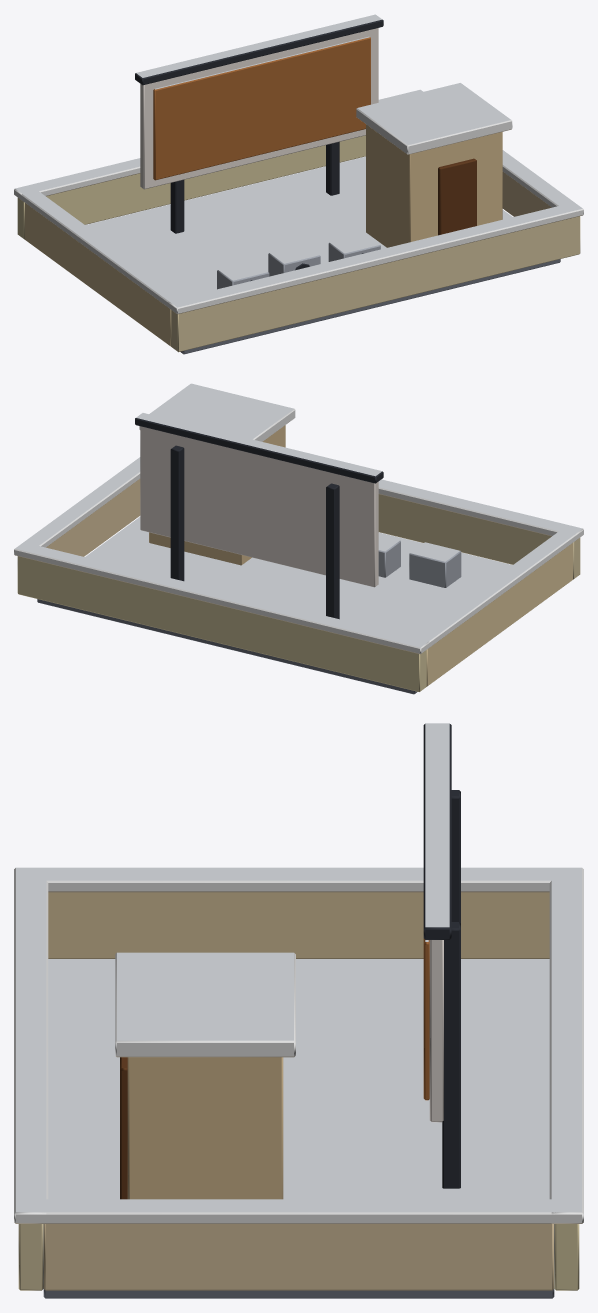
File: Shop_Bakery_Roof.glb
3 views of the same model, one above another, from view 1: azimuth 30°, elevation 25°; view 2: azimuth 150°, elevation 25°; view 3: azimuth 270°, elevation 25° (orthographic). The views are drawn at different scales.
Visible parts, largest first — view 1: Shop_Bakery_Roof; view 2: Shop_Bakery_Roof; view 3: Shop_Bakery_Roof.
Boxes of the visible parts, left/top/right/bottom form: Shop_Bakery_Roof: left=14, top=14, right=583, bottom=354; Shop_Bakery_Roof: left=14, top=383, right=583, bottom=694; Shop_Bakery_Roof: left=14, top=723, right=583, bottom=1298.
Bounding box in the file's own units: 26.3 × 11.1 × 18.3.
